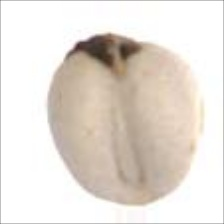L5: (100, 66, 159, 187), (60, 30, 152, 75), (103, 177, 177, 208)
L6: (44, 30, 206, 210)
